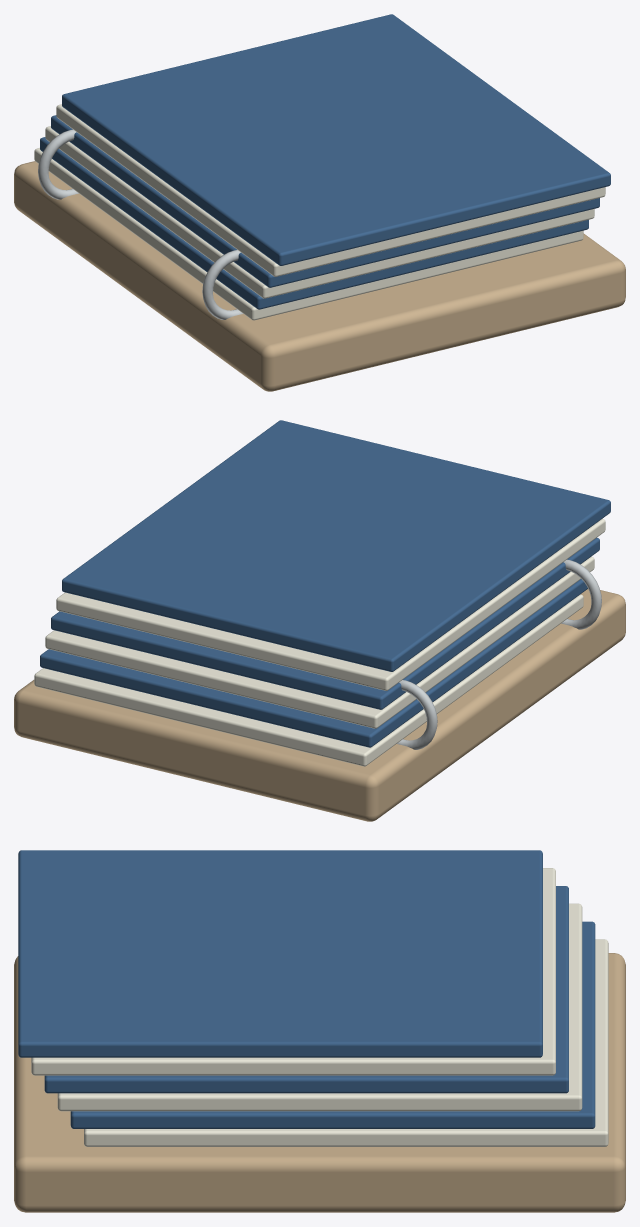
File: textile-weaving-and-dye-workshop-sample-swatch-book-5192a82f__29579.glb
The picture shows the model from 3 angles, top to bottom: view 1: azimuth 30°, elevation 25°; view 2: azimuth 150°, elevation 25°; view 3: azimuth 270°, elevation 25°; orthographic projection. The views are drawn at different scales.
Visible parts, largest first — view 1: sample-swatch-book; view 2: sample-swatch-book; view 3: sample-swatch-book.
Boxes of the visible parts, <box> form: sample-swatch-book: <box>14,14,625,391</box>; sample-swatch-book: <box>14,420,625,821</box>; sample-swatch-book: <box>14,850,625,1212</box>.
Size of the model in its own units: 0.241 by 0.083 by 0.28.
